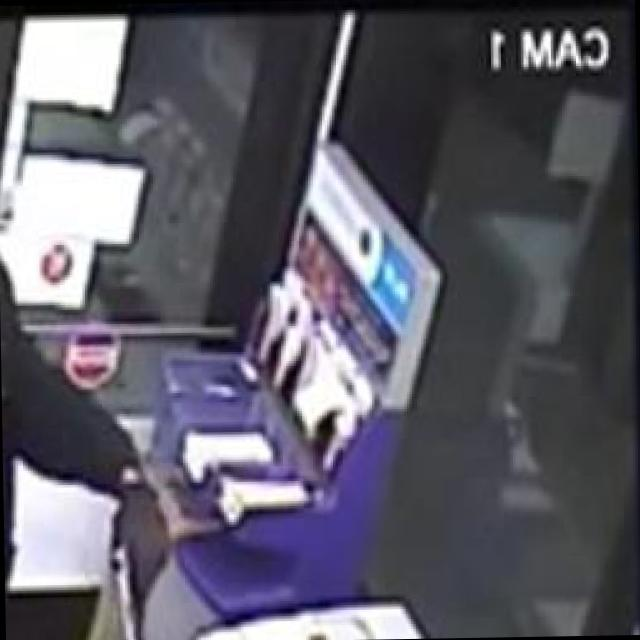Guns: (94, 527, 183, 640)
